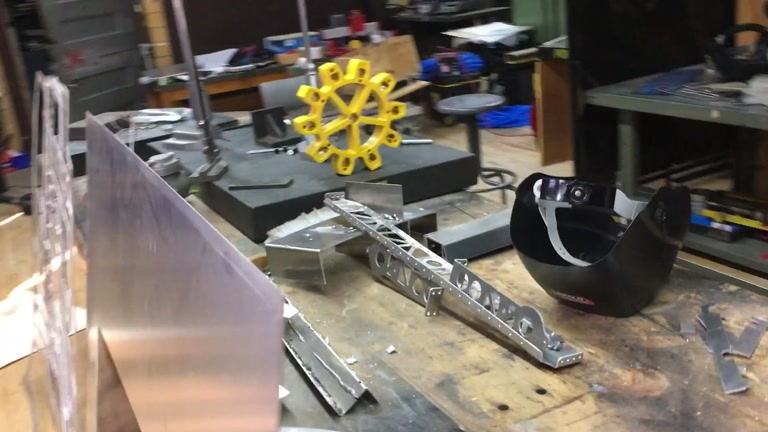gear: (293, 58, 407, 176)
